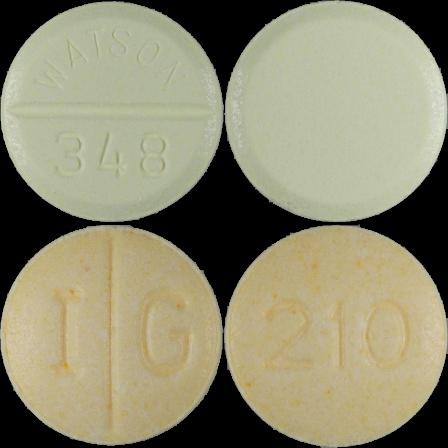68788-9792: (0, 0, 224, 224)
